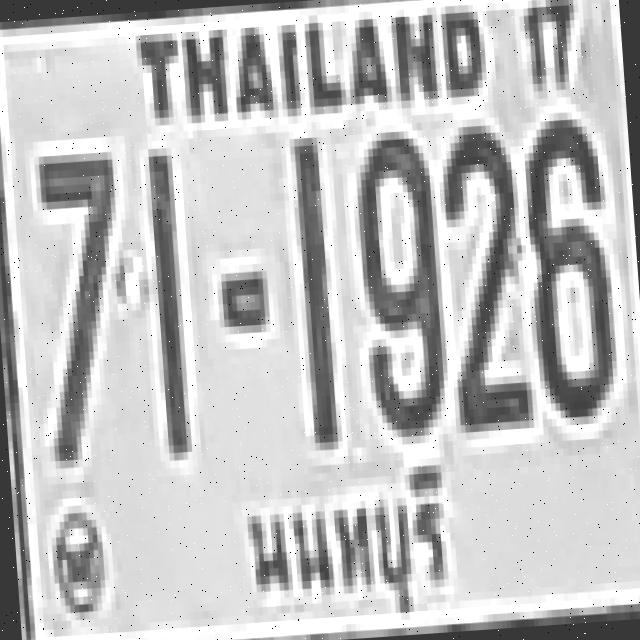1: (140, 147, 190, 453), (289, 137, 338, 443), (143, 147, 187, 453)
2: (434, 120, 528, 428)
6: (516, 110, 614, 412)
7: (31, 144, 130, 460)
9: (348, 125, 447, 435)
Nonthaburi: (229, 453, 462, 639)
